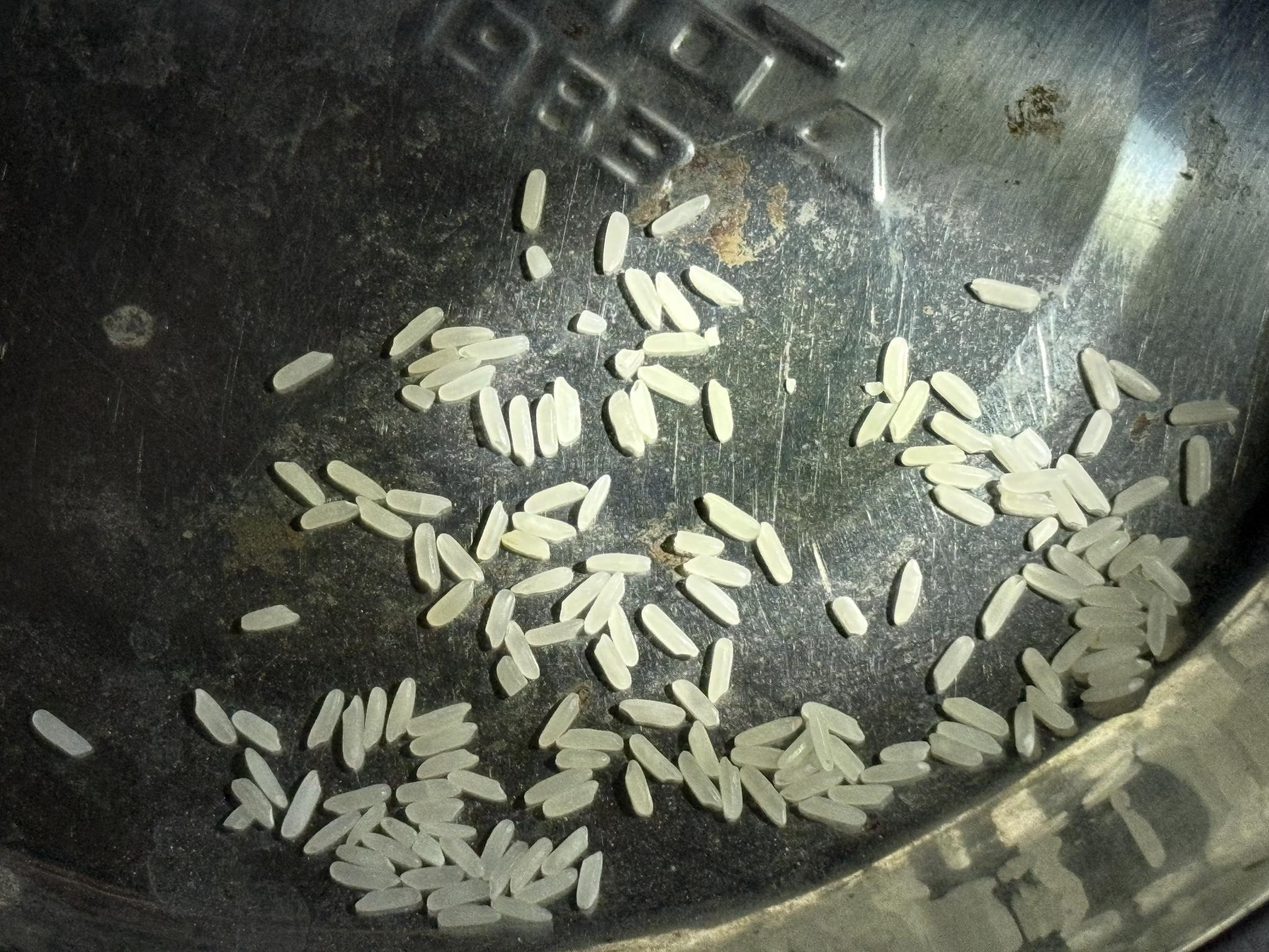Rice-th-y-nh: (942, 691, 1010, 742), (801, 695, 866, 748), (523, 760, 593, 809), (640, 602, 699, 660), (930, 405, 992, 460), (1056, 452, 1110, 515), (30, 706, 93, 760), (685, 570, 741, 629), (1169, 388, 1239, 435), (979, 573, 1027, 641), (702, 488, 760, 544), (739, 762, 788, 827), (933, 480, 995, 531), (886, 377, 933, 443), (389, 303, 444, 359), (650, 190, 710, 241), (582, 571, 628, 637), (687, 259, 743, 313), (603, 389, 646, 459), (654, 270, 701, 334), (675, 749, 722, 813), (406, 696, 472, 741), (355, 492, 412, 544), (1179, 434, 1220, 506), (628, 732, 682, 785), (1079, 346, 1123, 411), (558, 568, 609, 624), (752, 521, 796, 585), (931, 366, 982, 421), (283, 771, 323, 841), (623, 266, 666, 331), (700, 378, 743, 443), (637, 363, 701, 406), (536, 691, 582, 750), (643, 324, 709, 365), (671, 675, 720, 730), (798, 794, 867, 833), (932, 719, 1004, 756), (274, 459, 327, 509), (436, 531, 484, 586), (1021, 645, 1065, 705), (302, 812, 362, 856), (503, 394, 540, 465), (192, 689, 238, 746), (425, 578, 477, 628), (550, 376, 587, 446), (472, 500, 514, 561), (1109, 355, 1160, 405), (877, 337, 915, 404), (272, 350, 334, 391), (527, 393, 566, 458), (596, 210, 635, 275), (1107, 535, 1162, 581), (932, 635, 977, 691), (1022, 563, 1085, 603), (542, 825, 590, 877), (1023, 686, 1076, 733), (1139, 557, 1192, 604), (971, 276, 1040, 312), (476, 386, 512, 455), (326, 459, 385, 501), (593, 633, 634, 693), (1047, 545, 1104, 588), (684, 553, 752, 589), (245, 750, 287, 808), (1112, 475, 1169, 517), (329, 860, 401, 893), (731, 716, 803, 749), (999, 484, 1058, 524), (408, 723, 477, 757), (508, 841, 550, 896), (780, 767, 844, 803), (306, 689, 345, 748), (437, 364, 496, 403), (540, 780, 599, 819), (363, 831, 422, 870), (478, 819, 515, 881), (503, 621, 541, 681), (1069, 645, 1142, 676), (230, 777, 275, 827), (232, 709, 283, 753), (852, 399, 896, 450), (524, 480, 586, 516), (858, 758, 932, 788), (510, 873, 577, 906), (425, 878, 490, 912), (606, 604, 641, 667), (384, 678, 418, 742), (355, 884, 423, 916), (555, 725, 625, 756), (440, 835, 487, 881), (1065, 515, 1123, 552), (415, 747, 480, 780), (892, 559, 924, 626), (513, 510, 576, 544), (335, 844, 398, 878), (385, 487, 451, 519), (621, 697, 685, 730), (394, 774, 458, 807), (576, 474, 613, 531), (410, 522, 441, 590), (419, 357, 481, 391), (1083, 530, 1134, 571), (511, 566, 574, 599), (323, 782, 390, 813), (463, 333, 530, 364), (803, 705, 834, 772), (1088, 657, 1150, 690), (926, 460, 991, 491), (484, 589, 517, 650), (827, 779, 894, 809), (687, 720, 721, 779), (448, 768, 505, 803), (629, 380, 661, 442), (1081, 676, 1145, 707), (400, 862, 466, 892), (404, 795, 464, 828), (339, 698, 366, 770), (586, 549, 653, 578), (1076, 603, 1145, 631), (1050, 628, 1091, 675), (989, 434, 1036, 475), (673, 525, 725, 562), (1080, 584, 1144, 614), (1049, 481, 1088, 530), (1008, 701, 1042, 757), (518, 169, 548, 232), (706, 637, 735, 702), (430, 322, 495, 351), (929, 734, 983, 768), (826, 734, 865, 781), (1076, 408, 1114, 456), (436, 902, 501, 930), (346, 801, 388, 844), (623, 760, 654, 818), (900, 442, 966, 469), (878, 735, 930, 769), (300, 499, 357, 530), (575, 852, 605, 910), (492, 895, 551, 924), (526, 619, 583, 649), (716, 760, 744, 821), (240, 604, 300, 632), (361, 688, 388, 750), (502, 527, 551, 561), (417, 816, 476, 844), (1013, 426, 1053, 467), (407, 347, 460, 377), (494, 654, 529, 699), (831, 594, 869, 635), (556, 745, 611, 773), (730, 743, 782, 772), (612, 345, 647, 382), (411, 832, 446, 867), (380, 816, 418, 848), (1027, 516, 1058, 551), (525, 244, 554, 280), (401, 383, 436, 409), (223, 804, 255, 831), (575, 309, 608, 335), (703, 325, 722, 349), (864, 380, 886, 398)
